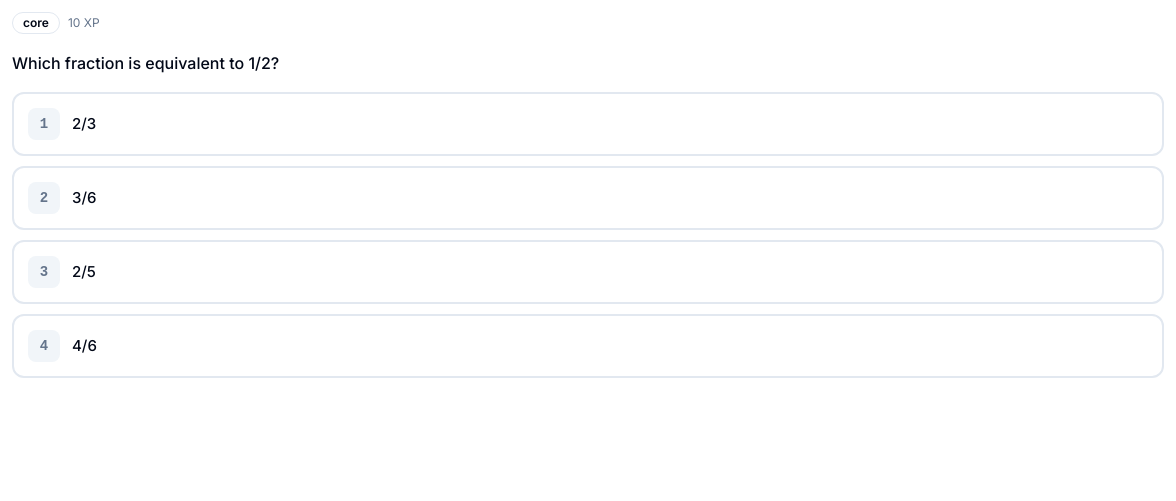
Test case: QuestionShell › shows incorrect feedback when wrong answer is selected
The width and height of the screenshot is (1176, 501).
Click the text "2/3" at coordinates (84, 124), box 72,114 -> 96,134
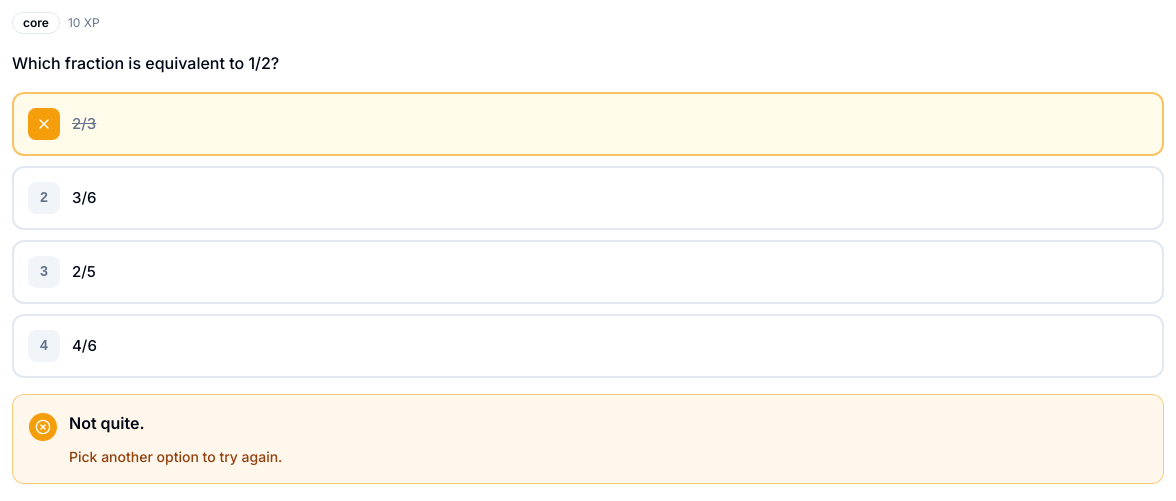
Result: the text "Not quite." is shown at 69,413 -> 145,433
